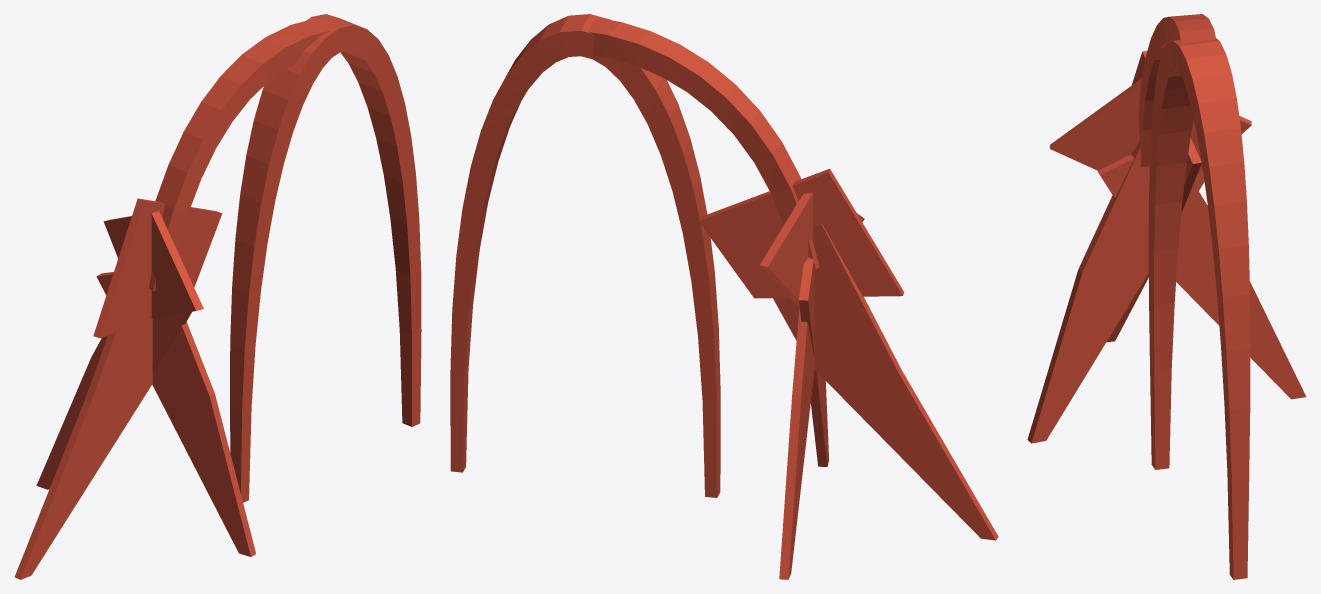
Rendered from chi-flamingo.glb.
The picture shows the model from 3 angles, left to right: view 1: azimuth 30°, elevation 25°; view 2: azimuth 150°, elevation 25°; view 3: azimuth 270°, elevation 25°; orthographic projection. The views are drawn at different scales.
Visible parts, largest first — view 1: Flamingo; view 2: Flamingo; view 3: Flamingo.
Part boxes in pixels (x1,y1,x2,y2): Flamingo: [14, 14, 421, 579]; Flamingo: [450, 14, 998, 579]; Flamingo: [1027, 14, 1306, 579].
Bounding box in the file's own units: 17.85 × 16.2 × 8.58.
